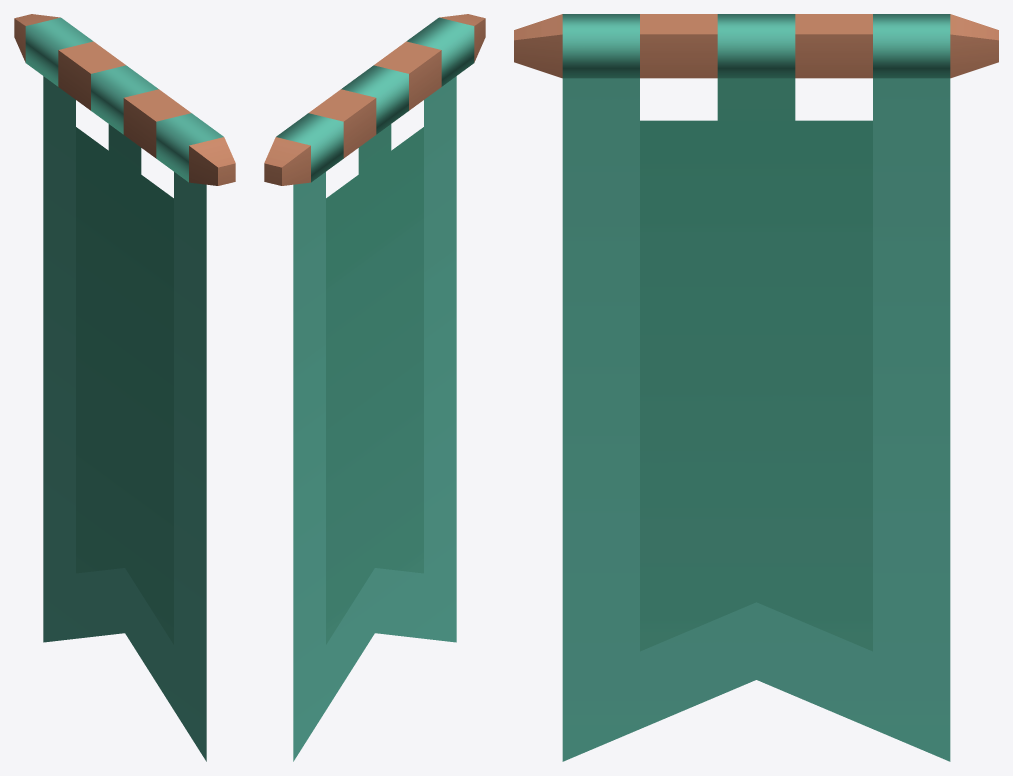
Rendered from banner_green.glb.
3 views of the same model, side by side, from view 1: azimuth 30°, elevation 25°; view 2: azimuth 150°, elevation 25°; view 3: azimuth 270°, elevation 25° (orthographic). The views are drawn at different scales.
Parts seen in each view (by area): view 1: banner-green; view 2: banner-green; view 3: banner-green.
Boxes of the visible parts, x1=… form: banner-green: x1=14, y1=14, x2=235, y2=761; banner-green: x1=264, y1=14, x2=485, y2=761; banner-green: x1=514, y1=14, x2=998, y2=761.
Bounding box in the file's own units: 0.05 × 0.8394 × 0.5.
1 material, 1 textured.
